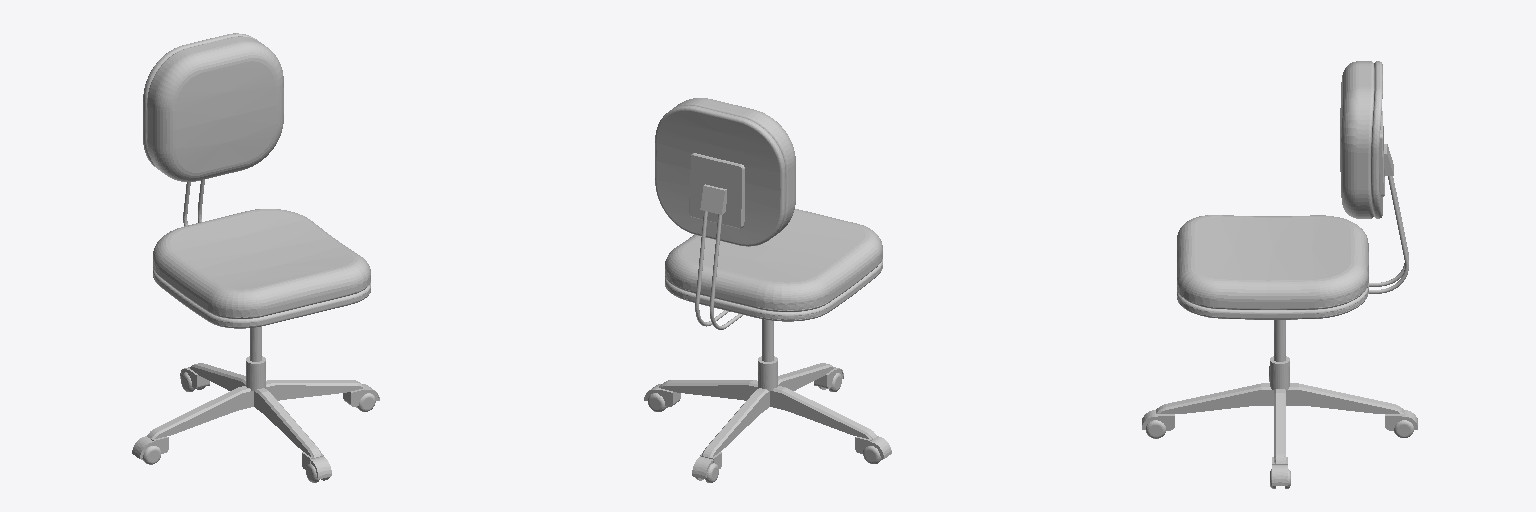
File: casterChairRed.obj
3 views of the same model, side by side, from view 1: azimuth 30°, elevation 25°; view 2: azimuth 150°, elevation 25°; view 3: azimuth 270°, elevation 25° (orthographic).
Visible parts, largest first — view 1: ボディ_Body10; view 2: ボディ_Body10; view 3: ボディ_Body10.
Boxes of the visible parts, <box> form: ボディ_Body10: <box>132,33,379,482</box>; ボディ_Body10: <box>644,98,891,482</box>; ボディ_Body10: <box>1142,61,1417,488</box>.
Size of the model in its own units: 0.6702 by 0.96 by 0.6702.